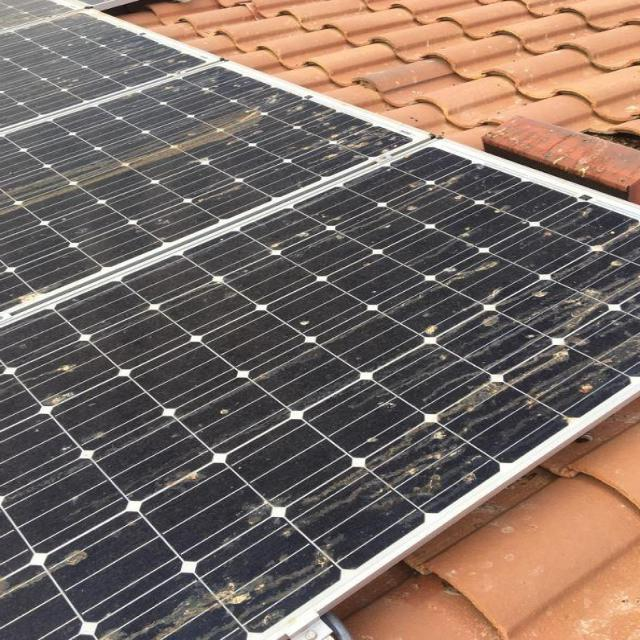soiled: (0, 136, 639, 640), (0, 61, 431, 312), (0, 8, 202, 124)
